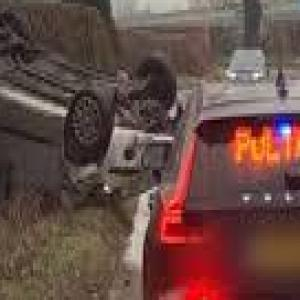critical: (0, 3, 183, 217)
